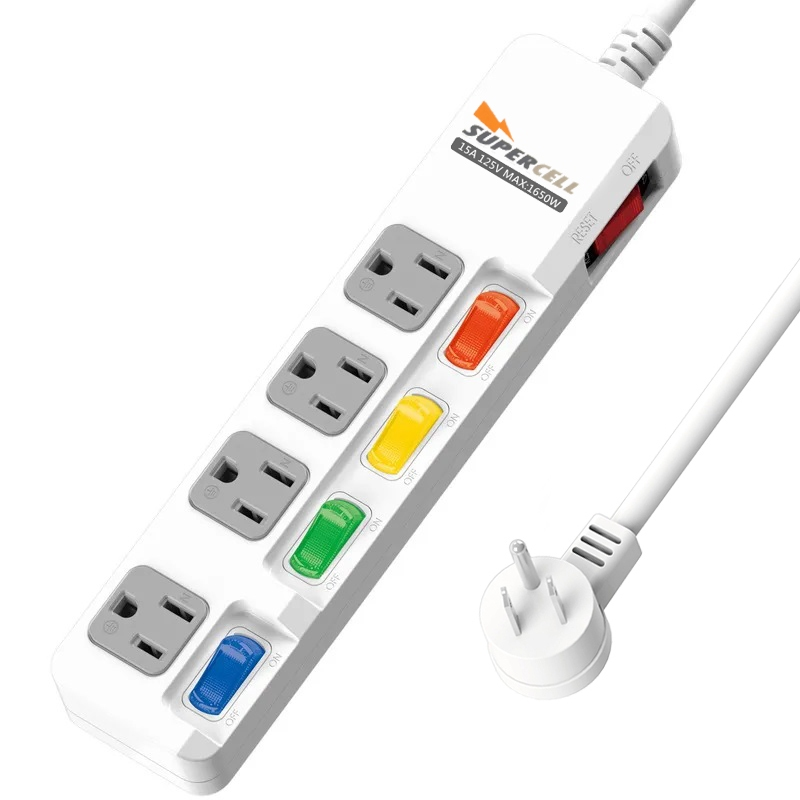socket: (47, 26, 683, 796)
